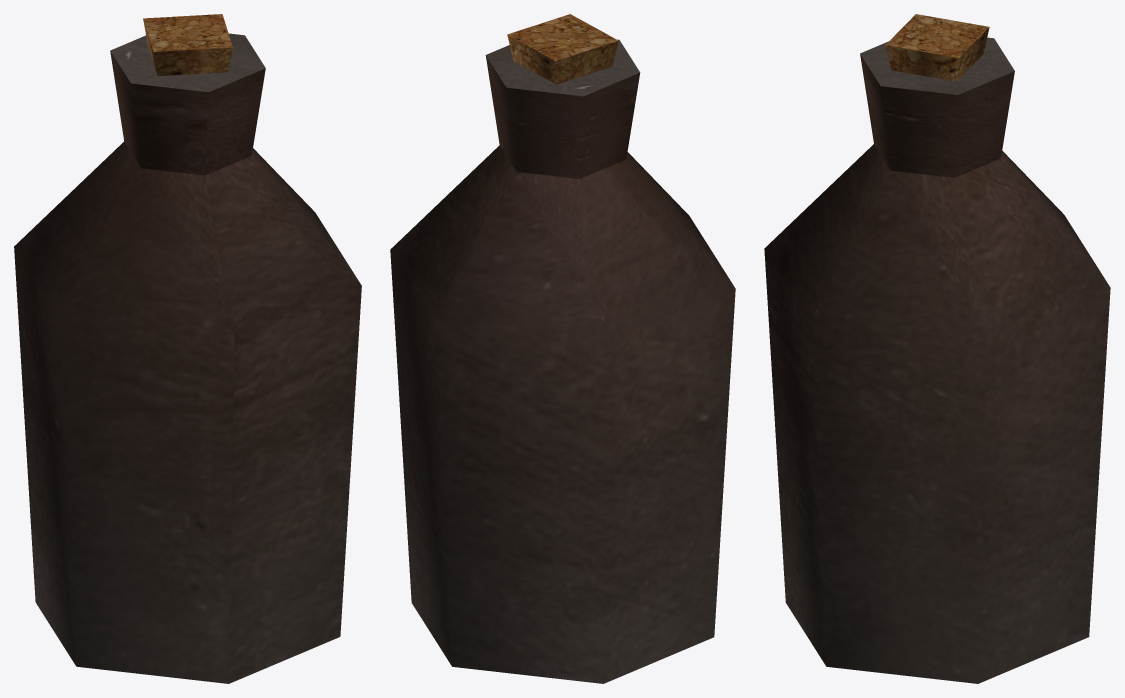
The model's file is Jug3_LOD1.fbx.
3 views of the same model, side by side, from view 1: azimuth 30°, elevation 25°; view 2: azimuth 150°, elevation 25°; view 3: azimuth 270°, elevation 25° (orthographic).
Parts seen in each view (by area): view 1: polySurface4; view 2: polySurface4; view 3: polySurface4.
Part boxes in pixels (x1,y1,x2,y2): polySurface4: [14, 14, 361, 683]; polySurface4: [390, 14, 735, 683]; polySurface4: [764, 14, 1110, 683].
Bounding box in the file's own units: 1.12 × 2.08 × 1.12.
